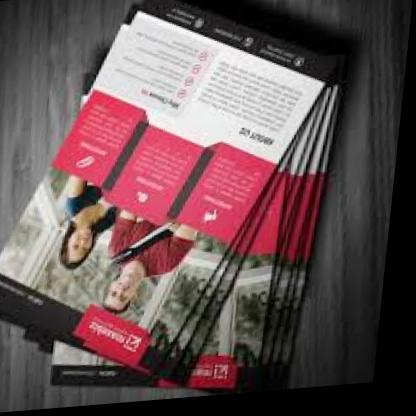Paper: (0, 0, 415, 408)
